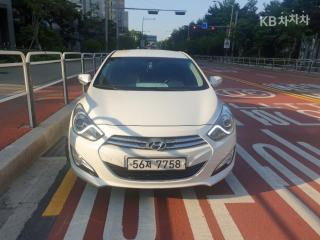5: (132, 159, 139, 169), (169, 159, 175, 169)
6: (138, 159, 145, 169)
7: (155, 160, 162, 168), (162, 160, 169, 168)
8: (175, 159, 181, 169)
저: (145, 160, 152, 169)
